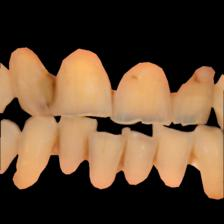cavity: (41, 74, 58, 111), (119, 146, 130, 172), (50, 128, 60, 152), (83, 137, 92, 161), (151, 146, 161, 163), (186, 150, 197, 162), (130, 72, 139, 80)
tooth: (59, 46, 112, 119), (114, 60, 170, 127), (8, 47, 58, 115), (13, 113, 55, 190), (182, 125, 223, 203), (169, 60, 215, 125), (155, 125, 193, 186), (125, 128, 161, 186), (56, 114, 89, 175), (92, 131, 126, 190), (2, 120, 20, 174)
